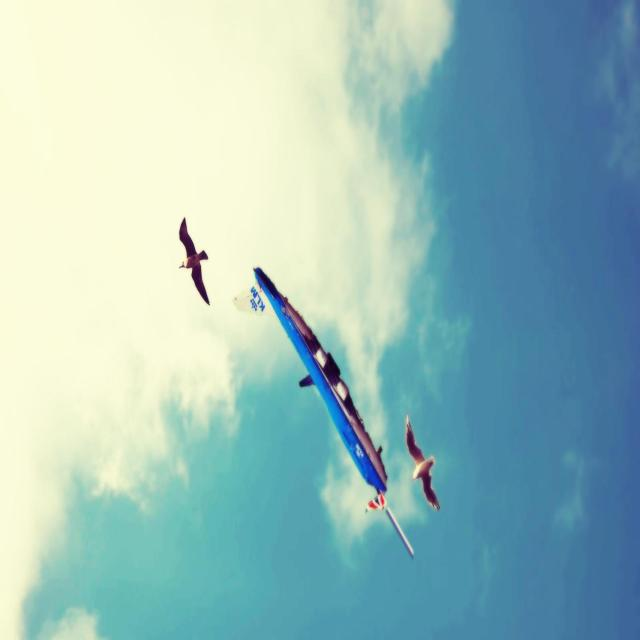airplane: (232, 265, 414, 559)
